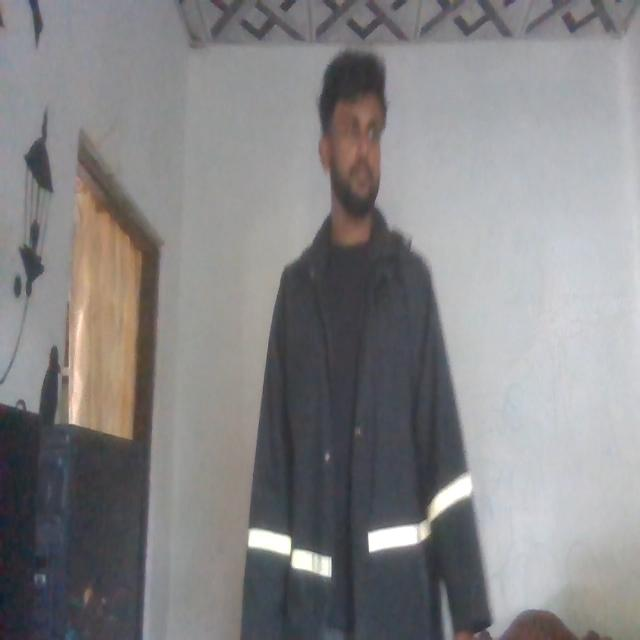Jacket_Wearer: (235, 175, 467, 640)
Person: (228, 52, 472, 640)
